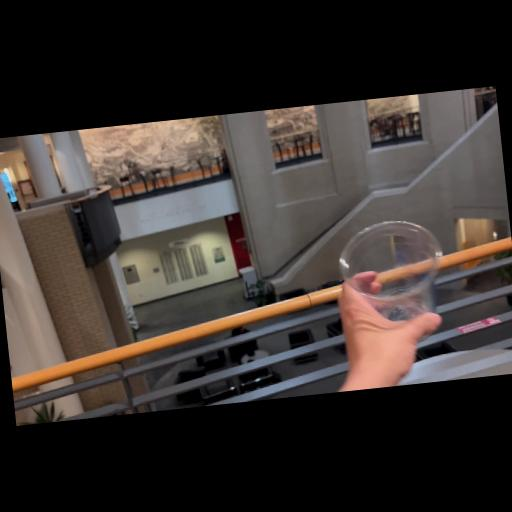lp_plastic_cup: (334, 216, 450, 348)
